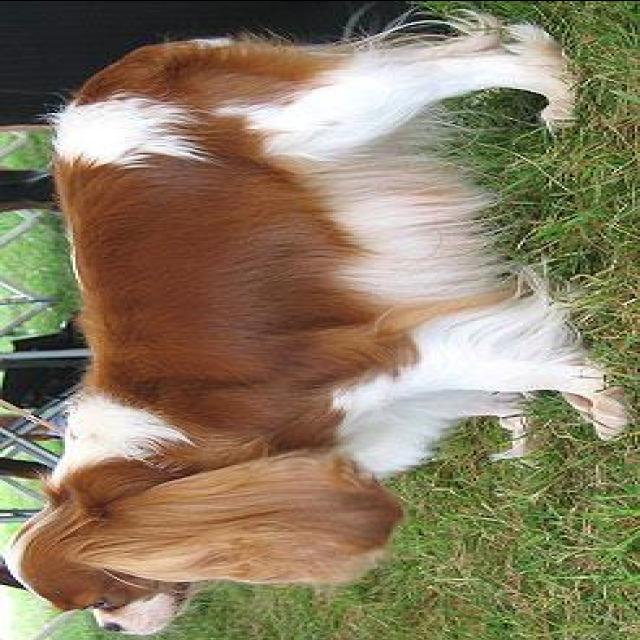blenheim_spaniel: (5, 4, 632, 634)
